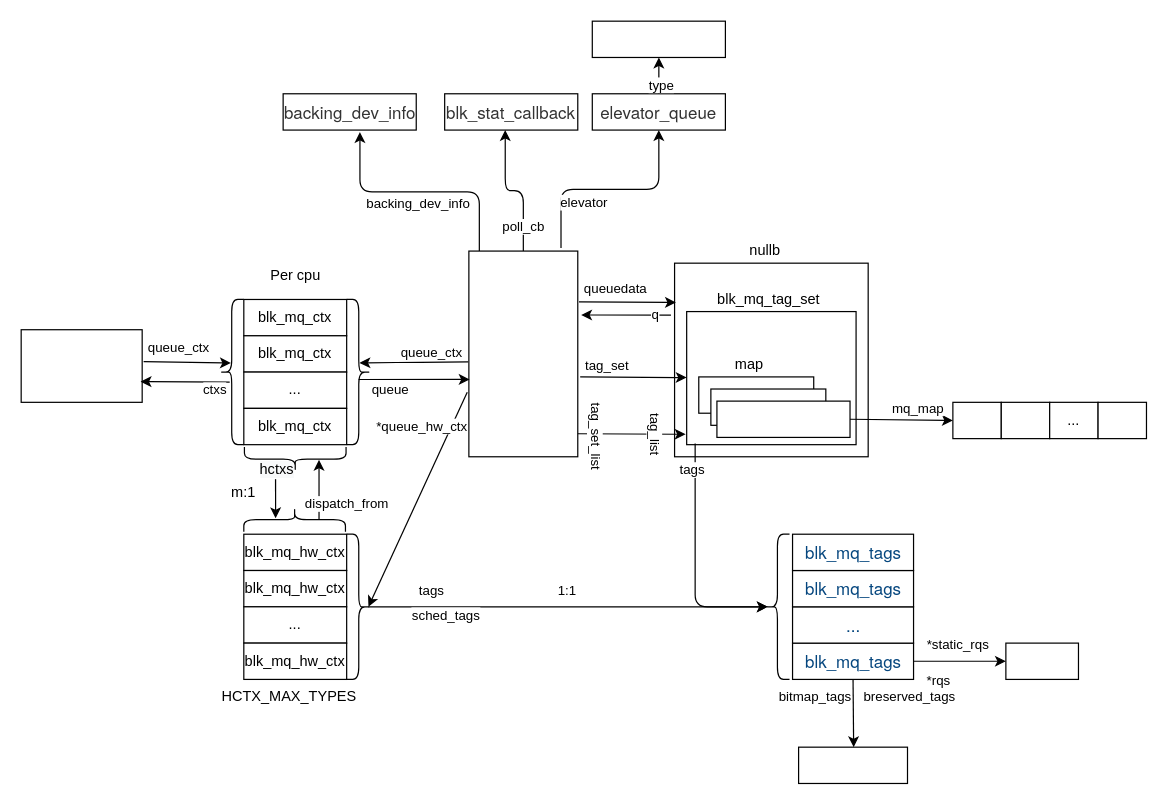
The diagram is 1168 pixels wide and 805 high, and some of its shapes have lost their labels. Each missing label, with the box of its shape:
blk_mq_ctxs: (20, 329, 142, 402)
blk_mq_queue_map: (716, 400, 850, 437)
elevator_type: (591, 20, 725, 57)
request: (1005, 642, 1078, 679)
request_queue: (468, 250, 578, 457)
sbitmap_queue: (797, 746, 908, 783)
